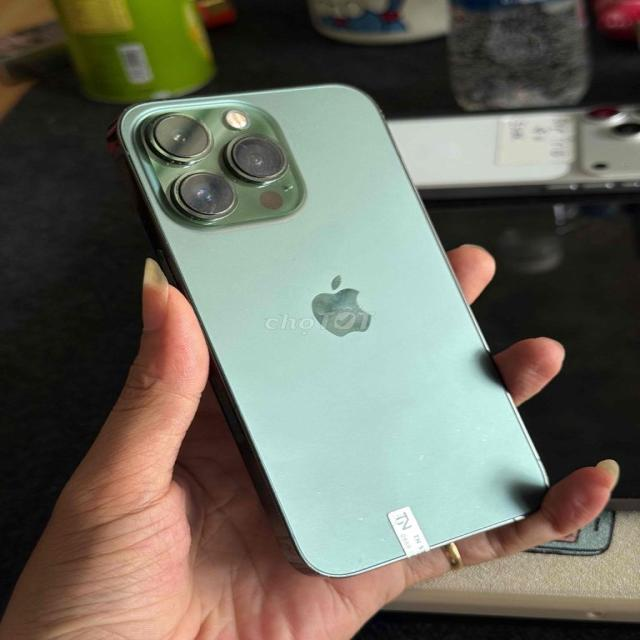gen_12_13: (115, 83, 560, 578)
